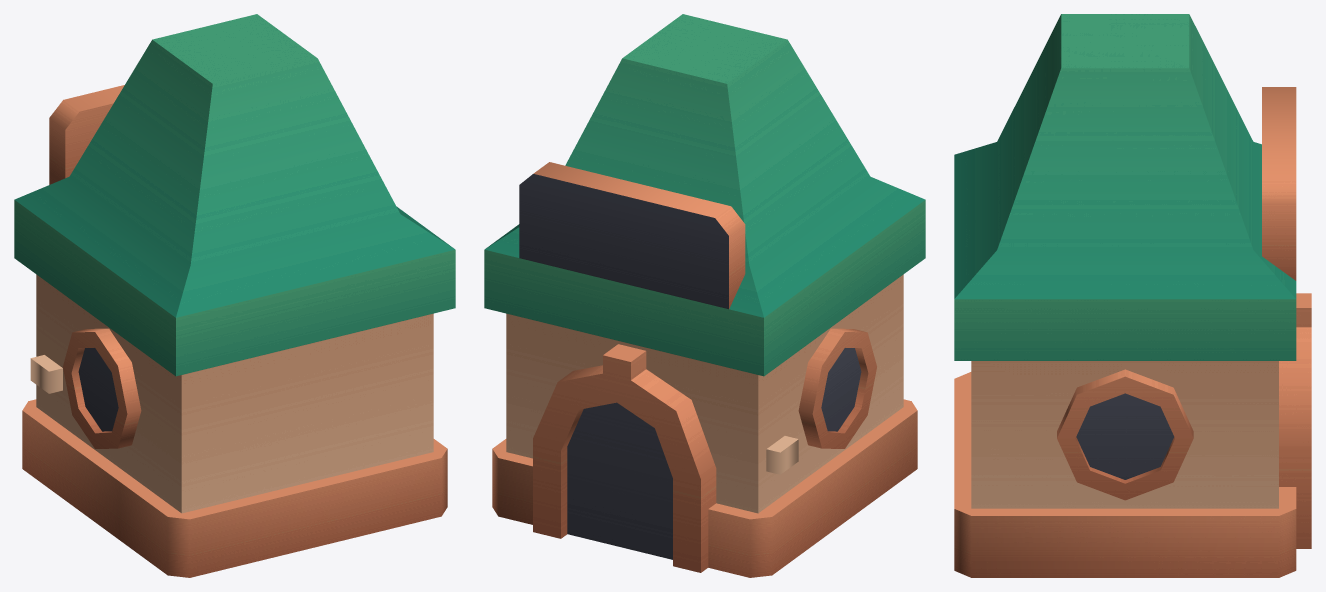
File: asset-049.glb
3 renders of one model, left to right at view 1: azimuth 30°, elevation 25°; view 2: azimuth 150°, elevation 25°; view 3: azimuth 270°, elevation 25°, orthographic. The views are drawn at different scales.
Parts seen in each view (by area): view 1: ride-entrance; view 2: ride-entrance, OuterShell; view 3: ride-entrance, OuterShell.
Boxes of the visible parts, x1=… form: ride-entrance: x1=14, y1=14, x2=455, y2=577; ride-entrance: x1=484, y1=14, x2=925, y2=577; OuterShell: x1=533, y1=344, x2=716, y2=572; ride-entrance: x1=954, y1=14, x2=1296, y2=577; OuterShell: x1=1279, y1=293, x2=1311, y2=548.
Bounding box in the file's own units: 1.73 × 2.6 × 1.81.
1 material, 1 textured.
